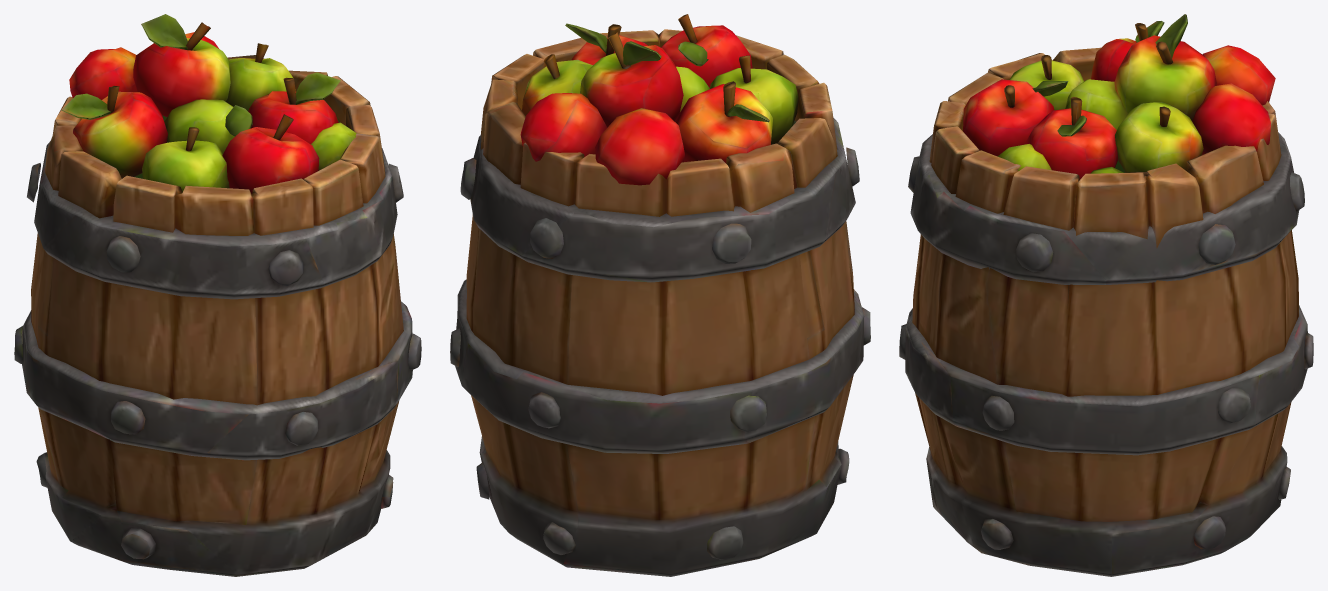
The model's file is tonneau_pommes.glb.
3 renders of one model, left to right at view 1: azimuth 30°, elevation 25°; view 2: azimuth 150°, elevation 25°; view 3: azimuth 270°, elevation 25°, orthographic. The views are drawn at different scales.
Parts seen in each view (by area): view 1: geometry_0; view 2: geometry_0; view 3: geometry_0.
Boxes of the visible parts, <box> form: geometry_0: <box>14,14,421,576</box>; geometry_0: <box>450,14,870,576</box>; geometry_0: <box>899,14,1313,576</box>.
Size of the model in its own units: 0.7173 by 0.9517 by 0.7413.
Materials: 1 (1 with a texture image).
